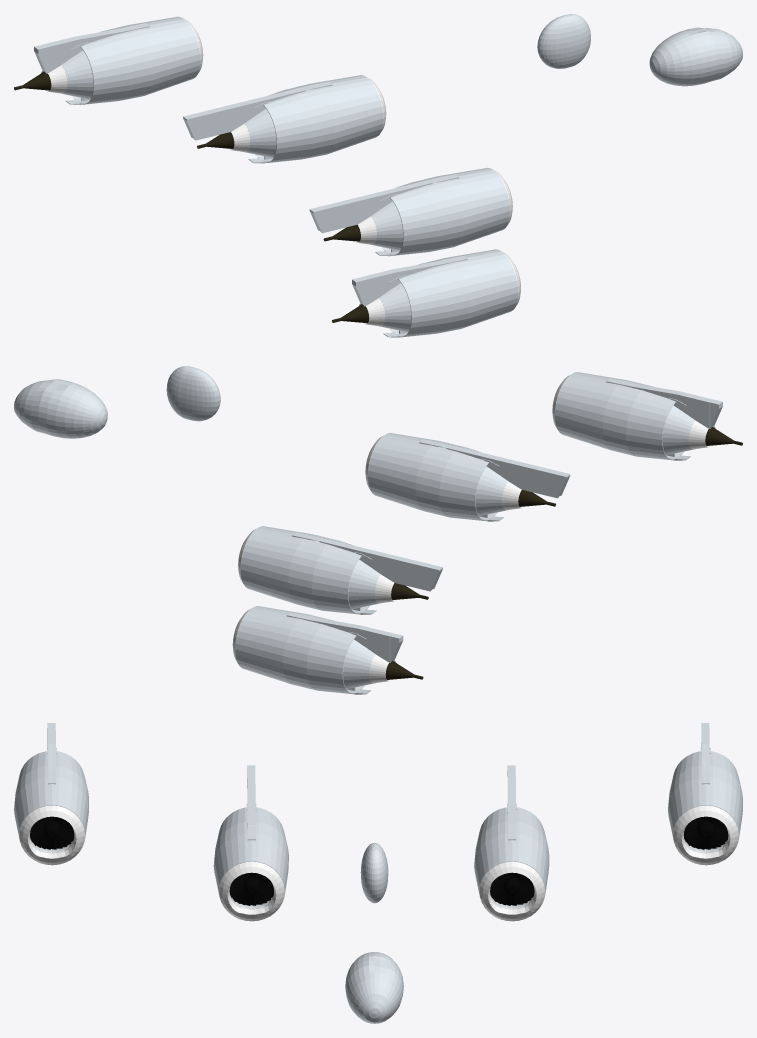
The picture shows the model from 3 angles, top to bottom: view 1: azimuth 30°, elevation 25°; view 2: azimuth 150°, elevation 25°; view 3: azimuth 270°, elevation 25°; orthographic projection. The views are drawn at different scales.
Parts seen in each view (by area): view 1: 立方体, 立方体.001, 立方体.002, 立方体.003, 球, 球.001, 円柱.008, 円柱.011, 円柱.004, 円柱.002; view 2: 立方体.001, 立方体, 立方体.002, 立方体.003, 球, 球.001, 円柱.011, 円柱.008, 円柱.004, 円柱.002; view 3: 立方体, 立方体.001, 立方体.002, 立方体.003, 球, 円柱.001, 円柱.010, 円柱.003, 円柱.006, 球.001, 円柱.012, 円柱.007 (+2 smaller).
Part boxes in pixels (x1=…): 立方体: x1=183, y1=75, x2=383, y2=163; 立方体.001: x1=309, y1=167, x2=509, y2=256; 立方体.002: x1=34, y1=16, x2=200, y2=104; 立方体.003: x1=352, y1=249, x2=518, y2=337; 球: x1=649, y1=27, x2=742, y2=86; 球.001: x1=537, y1=14, x2=590, y2=68; 円柱.008: x1=14, y1=50, x2=93, y2=99; 円柱.011: x1=332, y1=283, x2=411, y2=332; 円柱.004: x1=197, y1=109, x2=276, y2=157; 円柱.002: x1=323, y1=201, x2=403, y2=250; 立方体.001: x1=368, y1=433, x2=570, y2=521; 立方体: x1=240, y1=526, x2=442, y2=614; 立方体.002: x1=235, y1=606, x2=403, y2=694; 立方体.003: x1=555, y1=372, x2=722, y2=460; 球: x1=14, y1=379, x2=107, y2=438; 球.001: x1=166, y1=366, x2=220, y2=421; 円柱.011: x1=662, y1=405, x2=742, y2=455; 円柱.008: x1=343, y1=639, x2=423, y2=689; 円柱.004: x1=348, y1=559, x2=428, y2=609; 円柱.002: x1=475, y1=466, x2=555, y2=515; 立方体: x1=474, y1=765, x2=549, y2=909; 立方体.001: x1=213, y1=765, x2=288, y2=910; 立方体.002: x1=668, y1=723, x2=742, y2=854; 立方体.003: x1=14, y1=723, x2=88, y2=856; 球: x1=345, y1=952, x2=403, y2=1023; 円柱.001: x1=219, y1=861, x2=284, y2=921; 円柱.010: x1=19, y1=805, x2=84, y2=865; 円柱.003: x1=479, y1=861, x2=544, y2=921; 円柱.006: x1=673, y1=805, x2=738, y2=865; 球.001: x1=360, y1=842, x2=388, y2=903; 円柱.012: x1=30, y1=816, x2=74, y2=849; 円柱.007: x1=490, y1=872, x2=534, y2=905.
Size of the model in its own units: 22.87 by 5.44 by 24.84.
